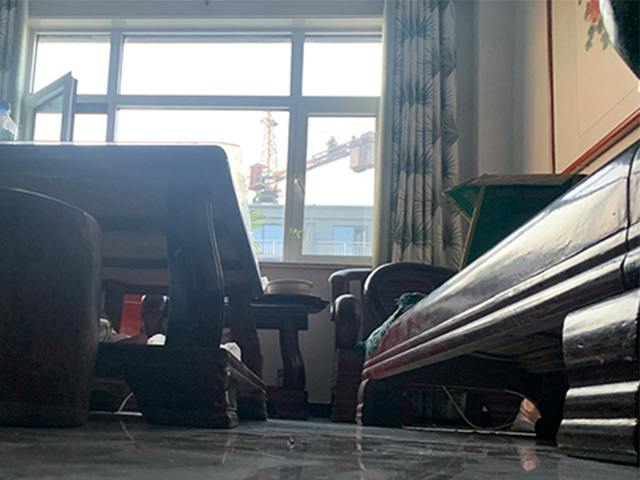curtain: (368, 2, 464, 262)
sofa: (354, 141, 640, 467)
table: (1, 141, 267, 429)
